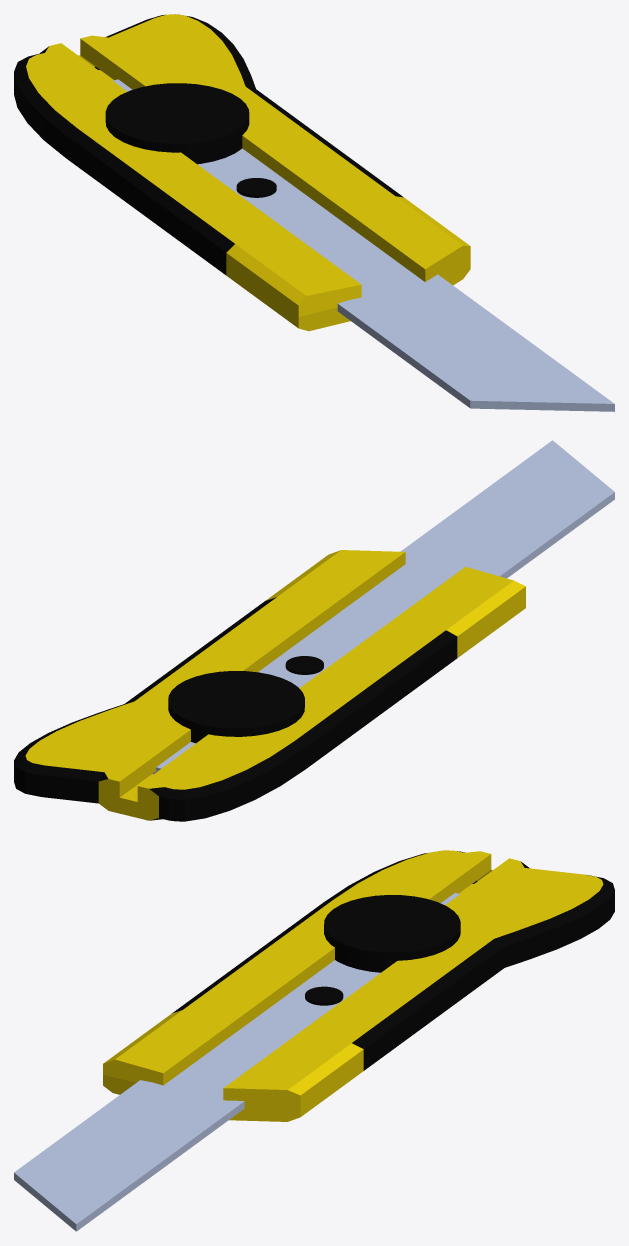
The model's file is SafetyKnife.fbx.
3 renders of one model, top to bottom at view 1: azimuth 30°, elevation 25°; view 2: azimuth 150°, elevation 25°; view 3: azimuth 330°, elevation 25°, orthographic. The views are drawn at different scales.
Visible parts, largest first — view 1: Handle, Knife, BigCircle, SmallCircle; view 2: Handle, Knife, BigCircle, SmallCircle; view 3: Handle, Knife, BigCircle, SmallCircle.
Part boxes in pixels (bbox=[...]): Handle: bbox=[14, 14, 470, 331]; Knife: bbox=[113, 79, 614, 411]; BigCircle: bbox=[105, 83, 249, 164]; SmallCircle: bbox=[236, 178, 276, 197]; Handle: bbox=[14, 550, 525, 821]; Knife: bbox=[152, 440, 614, 774]; BigCircle: bbox=[168, 671, 304, 743]; SmallCircle: bbox=[285, 656, 323, 674]; Handle: bbox=[103, 850, 614, 1121]; Knife: bbox=[14, 893, 459, 1231]; BigCircle: bbox=[324, 895, 460, 972]; SmallCircle: bbox=[305, 986, 343, 1005].
Bounding box in the file's own units: 310 × 56.31 × 1218.
